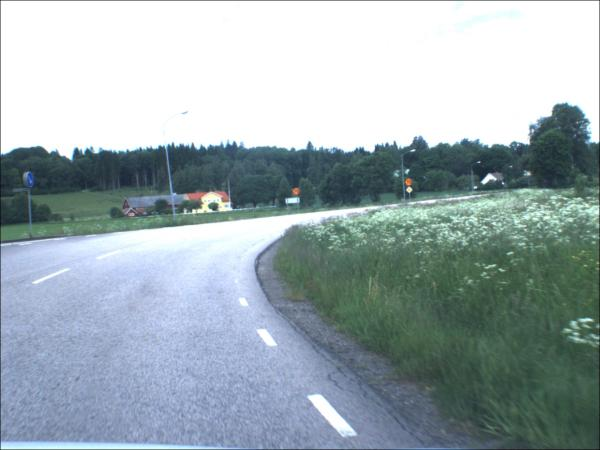70_SIGN: (407, 178, 416, 188), (294, 189, 303, 197)
PASS_RIGHT_SIDE: (24, 172, 36, 190)
PRIORITY_ROAD: (406, 188, 415, 195)
